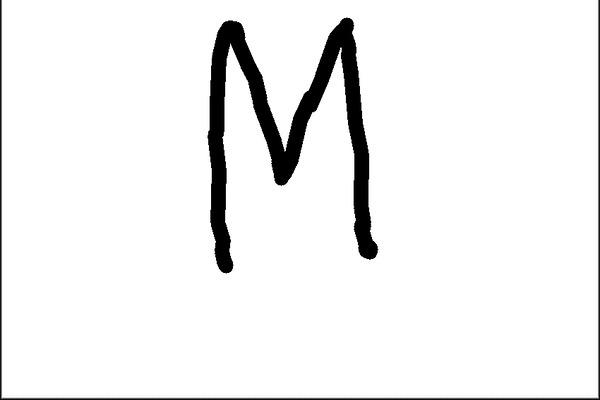M: (206, 15, 384, 268)
